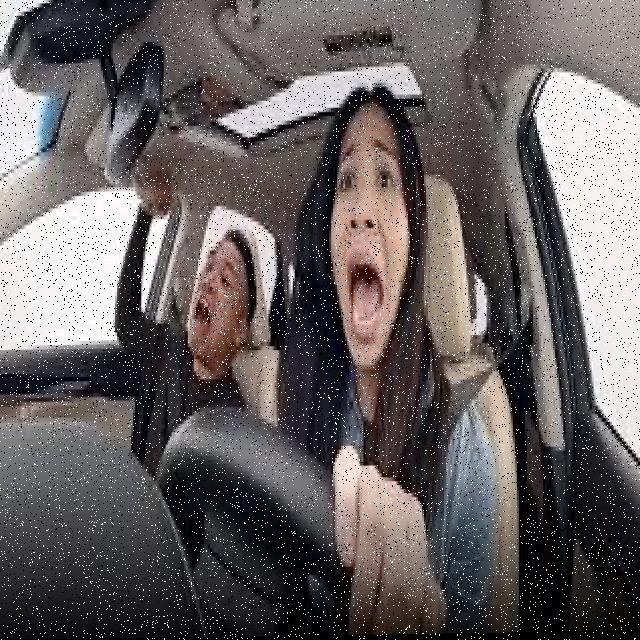seatbelt: (416, 292, 514, 604)
